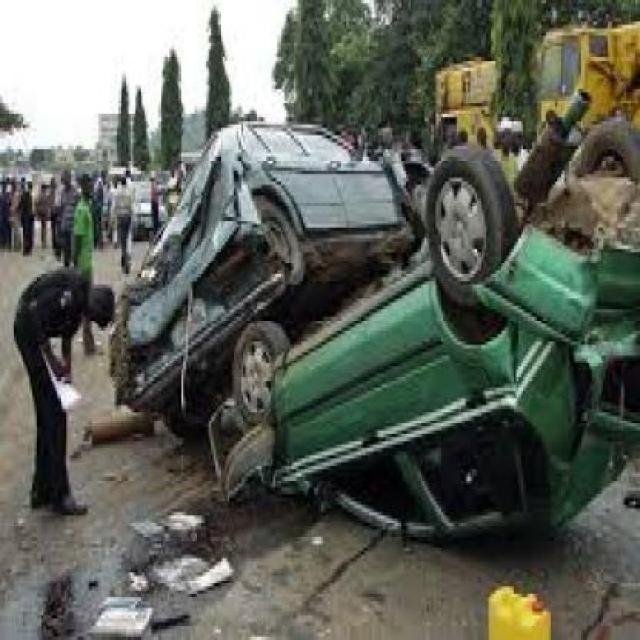accident: (75, 97, 638, 583)
